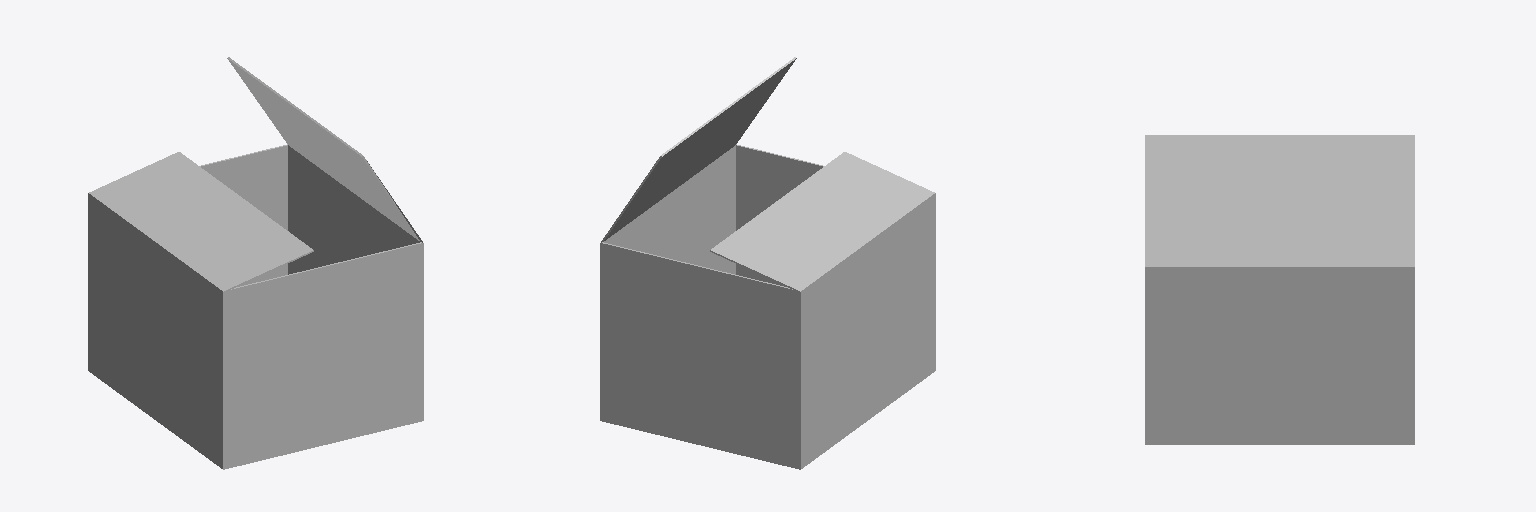
File: Box_paper01b.obj
The picture shows the model from 3 angles: view 1: azimuth 30°, elevation 25°; view 2: azimuth 150°, elevation 25°; view 3: azimuth 270°, elevation 25°; orthographic projection.
Visible parts, largest first — view 1: BoxCardBoard01b_LOD0_Cube.001; view 2: BoxCardBoard01b_LOD0_Cube.001; view 3: BoxCardBoard01b_LOD0_Cube.001.
Part boxes in pixels (x1,y1,x2,y2): BoxCardBoard01b_LOD0_Cube.001: (88,57,423,469); BoxCardBoard01b_LOD0_Cube.001: (600,57,935,469); BoxCardBoard01b_LOD0_Cube.001: (1145,135,1414,444).
Size of the model in its own units: 0.505 by 0.6755 by 0.589.